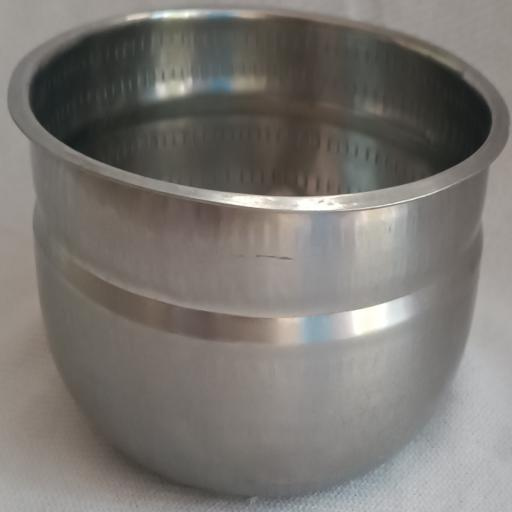vessel: (9, 9, 508, 495)
